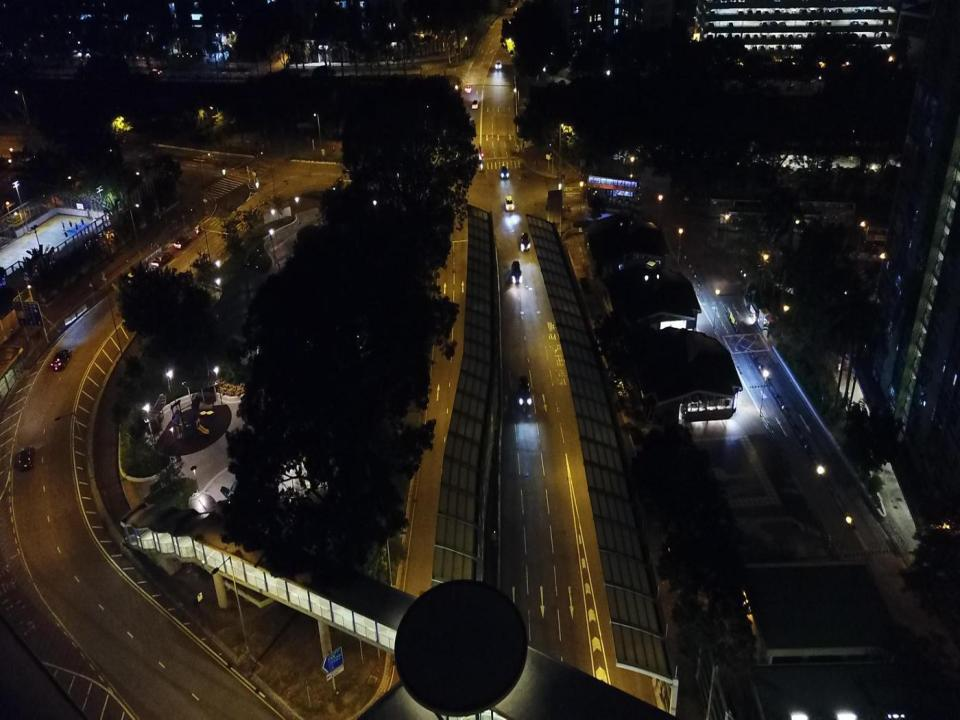bus: (585, 171, 643, 215), (790, 198, 856, 236), (723, 205, 775, 234)
car: (517, 375, 533, 409), (126, 266, 149, 288), (50, 349, 72, 371), (17, 445, 36, 469), (150, 251, 173, 270), (174, 234, 192, 250), (511, 260, 522, 285), (520, 232, 531, 252), (505, 195, 515, 211), (499, 165, 510, 179), (471, 98, 479, 109), (494, 60, 502, 70), (464, 84, 472, 93)
